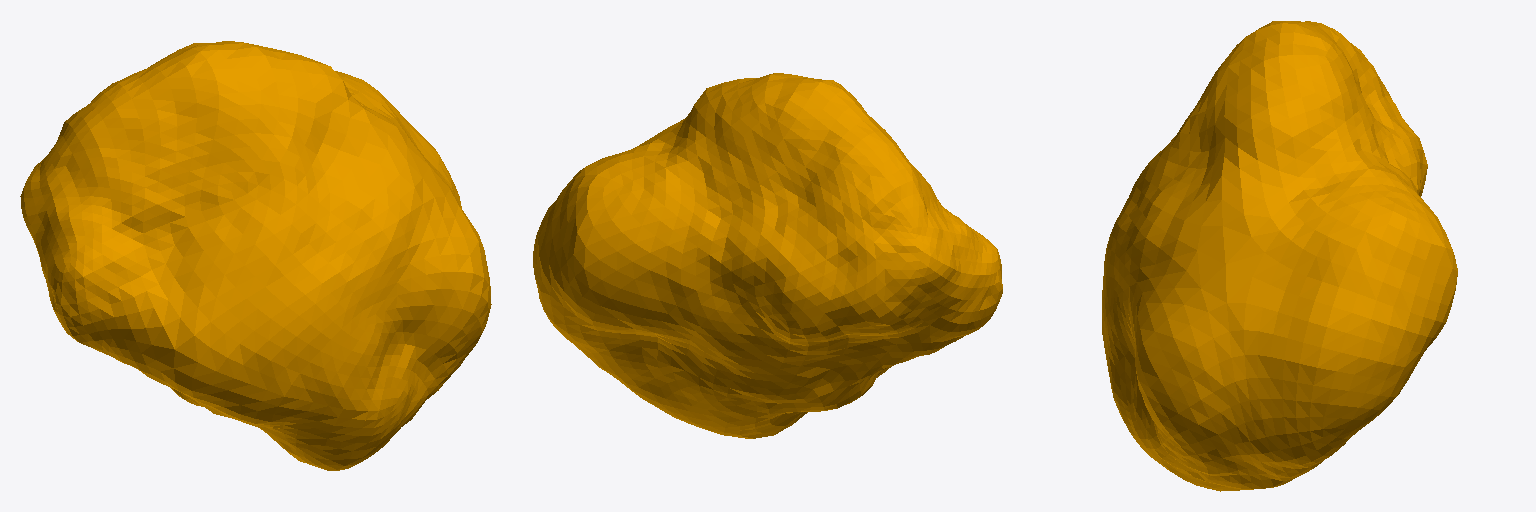
robot.urdf — rock:
<?xml version="1.0" ?>
<robot name="rock">
  <link name="rock">
    <inertial>
      <mass value="0.240"/>
      <origin rpy="0 0 0" xyz="0 0 0"/>
      <inertia ixx="0.000240" ixy="0" ixz="0" iyy="0.000240" iyz="0" izz="0.000240"/>
    </inertial>
    <collision name="rock_collision">
      <origin rpy="0 0 0" xyz="0 0 0"/>
      <geometry>
        <mesh filename="package://rocks/visual/157.dae" scale="1 1 1"/>
      </geometry>
    </collision>
    <visual name="rock_visual">
      <origin rpy="0 0 0" xyz="0 0 0"/>
      <geometry>
        <mesh filename="package://rocks/visual/157.dae" scale="1 1 1"/>
      </geometry>
    </visual>
  </link>
</robot>

--- Render facts (derived) ---
Views: 3 orthographic renders of the robot side by side, from view 1: azimuth 30°, elevation 25°; view 2: azimuth 150°, elevation 25°; view 3: azimuth 270°, elevation 25°.
Robot: rock — 1 links, 0 joints (none); root link rock; default pose: all joints at 0.
Visible links, largest first — view 1: rock; view 2: rock; view 3: rock.
Boxes of the visible links, x1,y1,x2,y2 form: rock: (20,41,491,470); rock: (533,73,1002,438); rock: (1102,21,1457,491).
Bounding box of the posed robot: 0.07 × 0.0496 × 0.0635 m (x, y, z).
Meshes: 1 distinct files referenced, 1 mesh visuals loaded (1 Collada DAE).